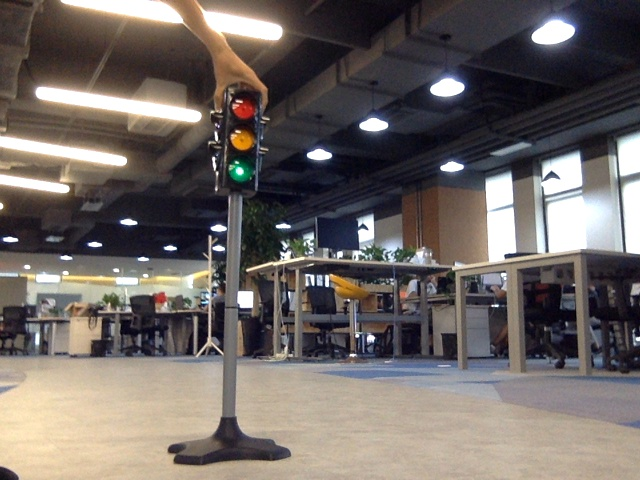green: (226, 95, 256, 186)
